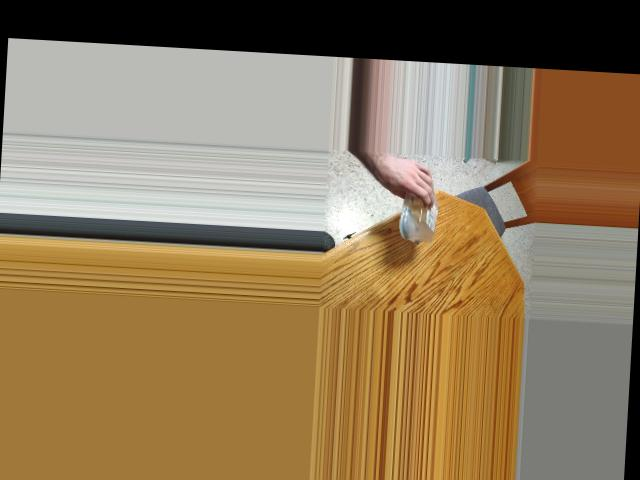cheese: (374, 185, 451, 243)
